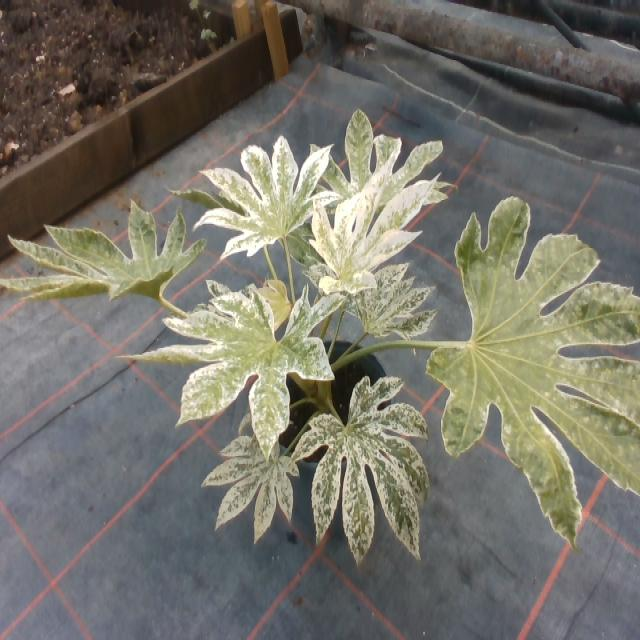Fatsia-japonica: (415, 185, 640, 534), (142, 266, 352, 450), (294, 366, 462, 547), (1, 207, 202, 313), (293, 96, 453, 217), (299, 174, 446, 298), (188, 140, 323, 252), (215, 408, 306, 536), (353, 246, 438, 349)
